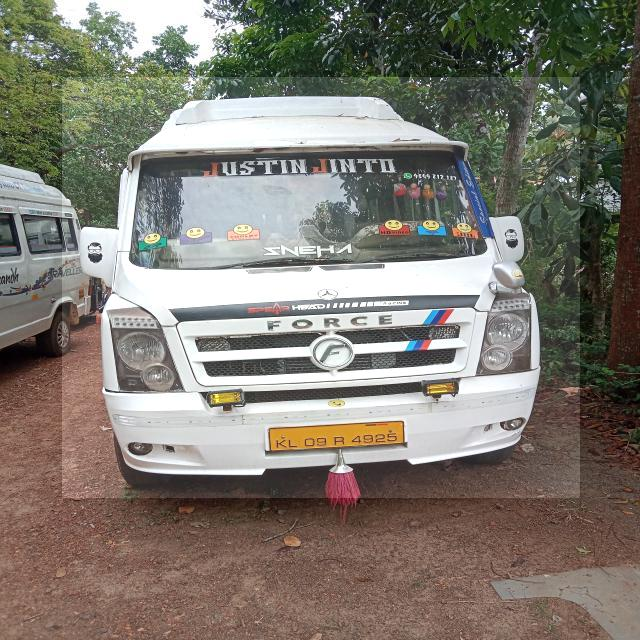Travller: (62, 77, 580, 498)
